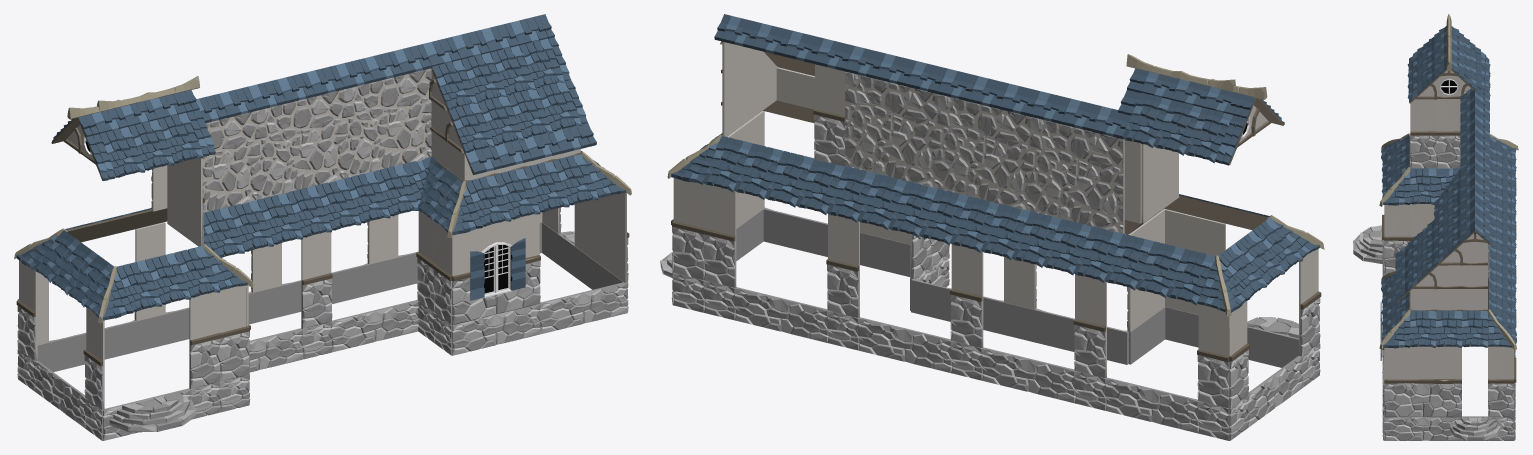
Rendered from HOUSE_20_PARTS.fbx.
3 views of the same model, side by side, from view 1: azimuth 30°, elevation 25°; view 2: azimuth 150°, elevation 25°; view 3: azimuth 270°, elevation 25° (orthographic). The views are drawn at different scales.
Parts seen in each view (by area): view 1: WINDOW_03_59, WALL_02_9, WALL_02_10, WALL_02_8, WALL_01_14, WALL_04_39, FOUNDATION_01_6, WALL_04_43, FOUNDATION_01_4, FOUNDATION_01_5, WALL_04_40, STAIRS_06_2 (+81 smaller); view 2: WALL_02_11, WALL_02_12, WALL_02_13, WALL_04_50, WALL_04_48, FOUNDATION_01_10, FOUNDATION_01_8, FOUNDATION_01_11, FOUNDATION_01_9, WALL_04_49, WALL_04_51, WALL_04_52 (+76 smaller); view 3: WALL_01_14, WALL_04_55, WALL_04_46, WALL_04_56, FOUNDATION_01_7, WALL_04_41, STAIRS_05_4, ROOF_base_116, ROOF_base_115, ROOF_base_114, ROOF_base_67, STAIRS_06_2 (+68 smaller).
Boxes of the visible parts, box(x1,y1,x2,y2) form: WINDOW_03_59: box(451, 214, 540, 324); WALL_02_9: box(256, 89, 344, 200); WALL_02_10: box(343, 68, 431, 178); WALL_02_8: box(202, 111, 257, 212); WALL_01_14: box(574, 193, 629, 282); WALL_04_39: box(189, 292, 220, 388); FOUNDATION_01_6: box(539, 282, 627, 334); WALL_04_43: box(301, 232, 332, 328); FOUNDATION_01_4: box(331, 300, 419, 352); FOUNDATION_01_5: box(452, 304, 540, 355); WALL_04_40: box(219, 285, 249, 381); STAIRS_06_2: box(109, 393, 196, 432); WALL_02_11: box(1030, 117, 1124, 233); WALL_02_12: box(937, 94, 1030, 211); WALL_02_13: box(845, 71, 938, 188); WALL_04_50: box(950, 244, 983, 348); WALL_04_48: box(703, 183, 736, 287); FOUNDATION_01_10: box(981, 347, 1074, 402); FOUNDATION_01_8: box(734, 287, 827, 342); FOUNDATION_01_11: box(1105, 377, 1198, 433); FOUNDATION_01_9: box(858, 317, 951, 372); WALL_04_49: box(826, 214, 859, 317); WALL_04_51: box(1073, 274, 1106, 378); WALL_04_52: box(1197, 304, 1230, 408); WALL_01_14: box(1384, 346, 1461, 417); WALL_04_55: box(1410, 99, 1436, 168); WALL_04_46: box(1488, 346, 1513, 417); WALL_04_56: box(1436, 99, 1460, 168); FOUNDATION_01_7: box(1384, 417, 1461, 440); WALL_04_41: box(1384, 204, 1410, 274); STAIRS_05_4: box(1449, 417, 1501, 440); ROOF_base_116: box(1410, 310, 1436, 347); ROOF_base_115: box(1436, 310, 1462, 347); ROOF_base_114: box(1462, 310, 1488, 347); ROOF_base_67: box(1410, 167, 1436, 204); STAIRS_06_2: box(1353, 225, 1382, 263).
Size of the model in its own units: 1927 by 986 by 638.
